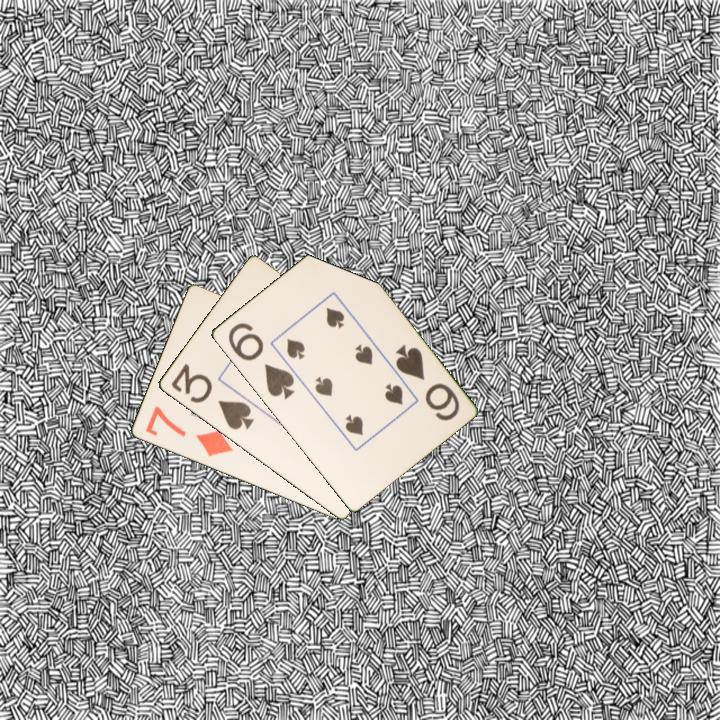3s: (167, 360, 257, 433)
6s: (224, 319, 297, 403), (391, 340, 462, 424)
7d: (141, 403, 236, 460)
